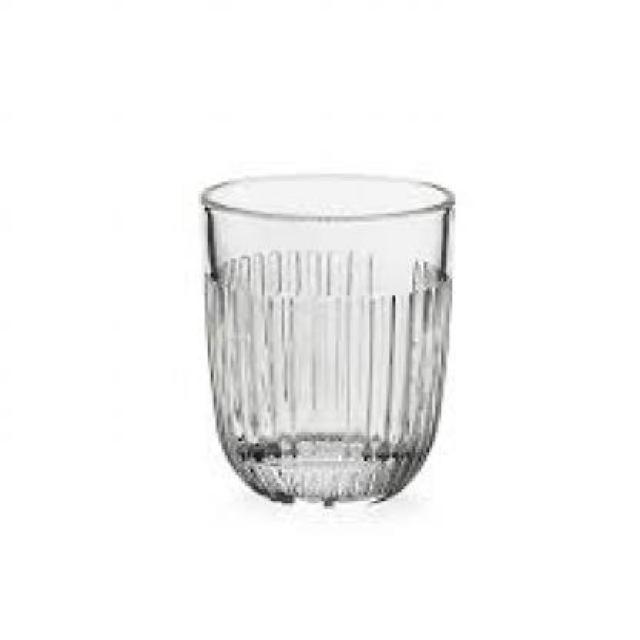kaca: (198, 174, 452, 506)
